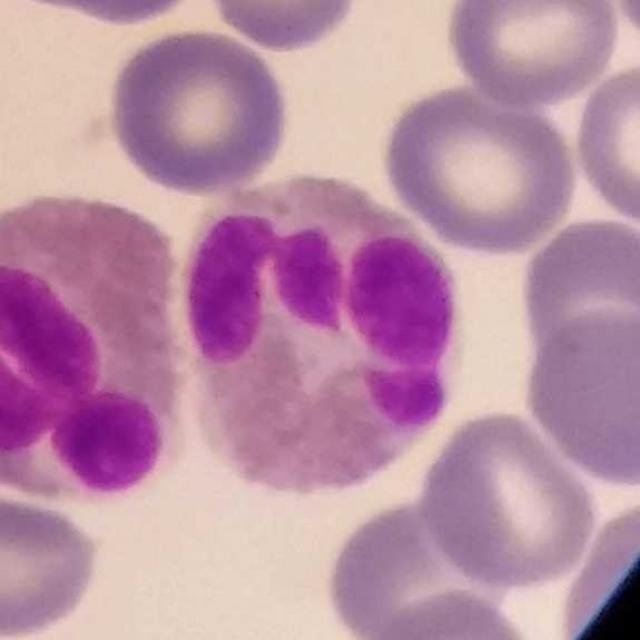eosino: (185, 166, 469, 508), (1, 190, 181, 509)
